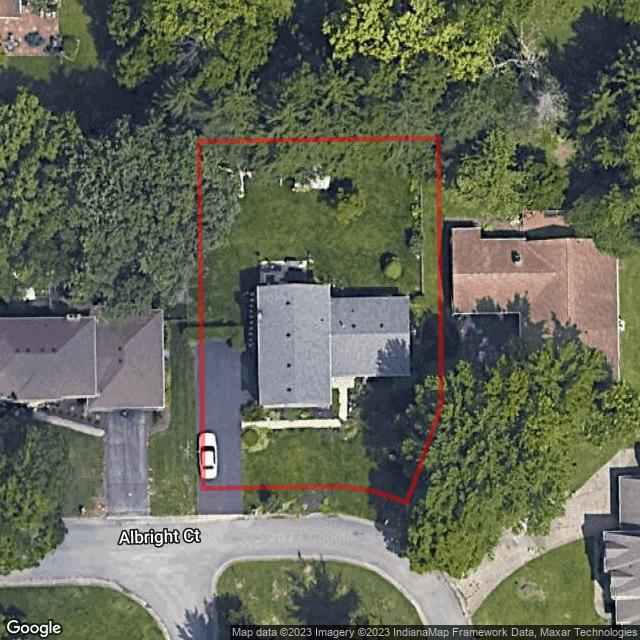Driveway: (203, 341, 259, 485)
Extra Driveway: (199, 491, 241, 514)
Extra Lawn: (241, 488, 407, 535)
House: (256, 284, 410, 408)
Other: (259, 259, 314, 284), (293, 175, 331, 192)
Sidewalk: (241, 377, 355, 430)
